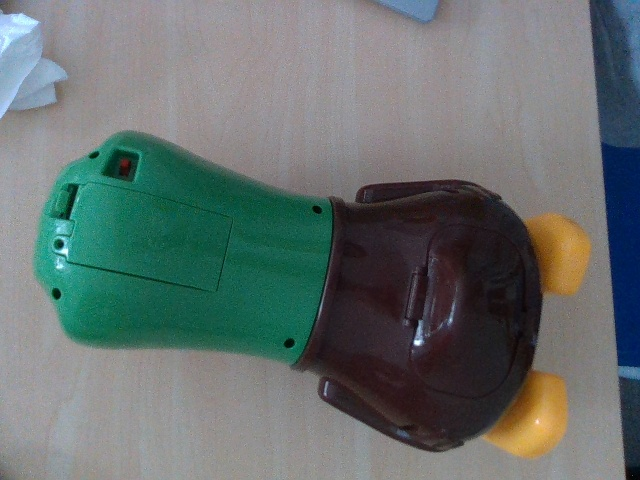screw hole: (283, 338, 295, 349), (53, 238, 64, 249), (52, 288, 61, 299), (314, 206, 322, 215), (89, 152, 99, 159)
toy: (32, 129, 590, 459)
